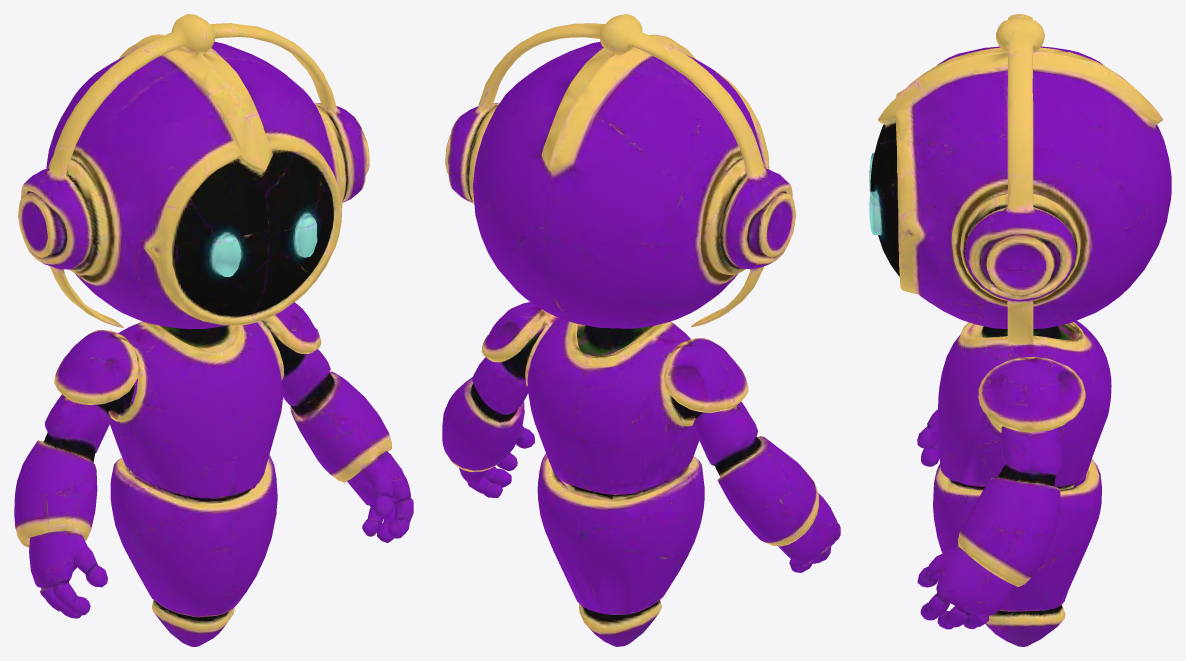
The model's file is designer.glb.
The picture shows the model from 3 angles, left to right: view 1: azimuth 30°, elevation 25°; view 2: azimuth 150°, elevation 25°; view 3: azimuth 270°, elevation 25°; orthographic projection.
Size of the model in its own units: 1.16 by 1.9 by 0.8317.
1 material, 1 textured.
